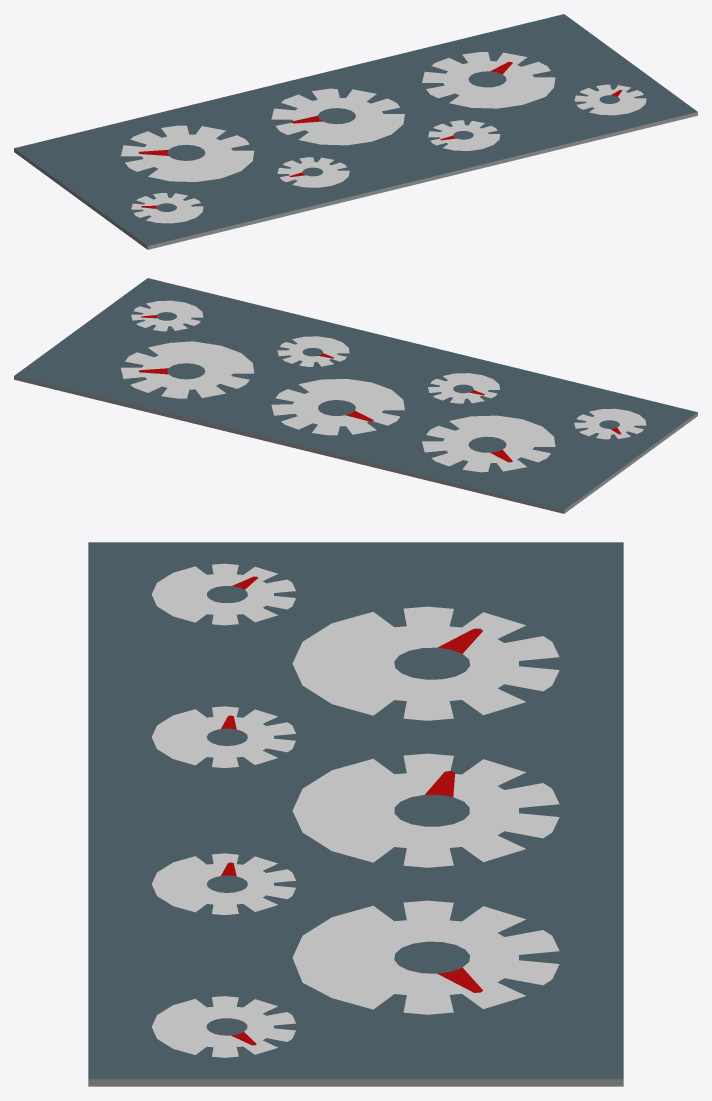
The picture shows the model from 3 angles, top to bottom: view 1: azimuth 30°, elevation 25°; view 2: azimuth 150°, elevation 25°; view 3: azimuth 270°, elevation 25°; orthographic projection. The views are drawn at different scales.
Visible parts, largest first — view 1: world; view 2: world; view 3: world.
Boxes of the visible parts, box(x1,y1,x2,y2) form: world: box(14, 14, 697, 249); world: box(14, 278, 697, 513); world: box(88, 542, 623, 1086).
Bounding box in the file's own units: 0.0152 × 0.0001 × 0.0064.
